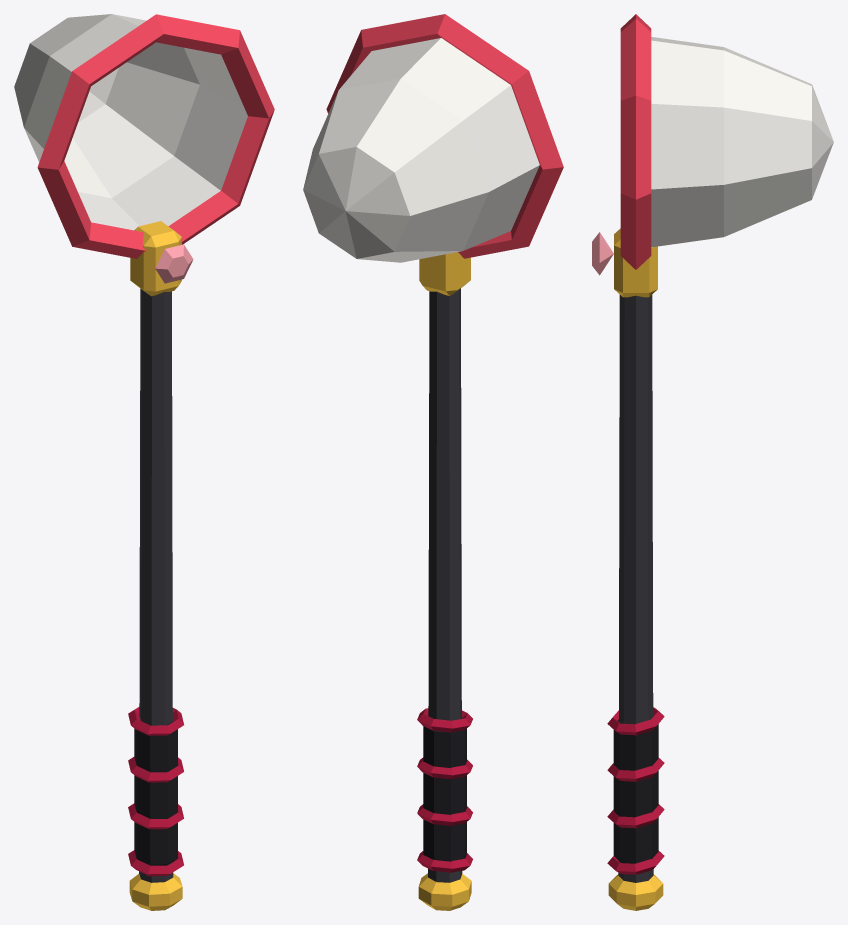
The model's file is RubyBugNet.fbx.
3 views of the same model, side by side, from view 1: azimuth 30°, elevation 25°; view 2: azimuth 150°, elevation 25°; view 3: azimuth 270°, elevation 25° (orthographic).
Parts seen in each view (by area): view 1: RubyBugNet; view 2: RubyBugNet; view 3: RubyBugNet.
Boxes of the visible parts, bbox=[...] form: RubyBugNet: bbox=[14, 14, 274, 910]; RubyBugNet: bbox=[303, 14, 563, 910]; RubyBugNet: bbox=[592, 14, 833, 910].
Size of the model in its own units: 1.24 by 4.44 by 1.1.
Materials: 1 (1 with a texture image).
